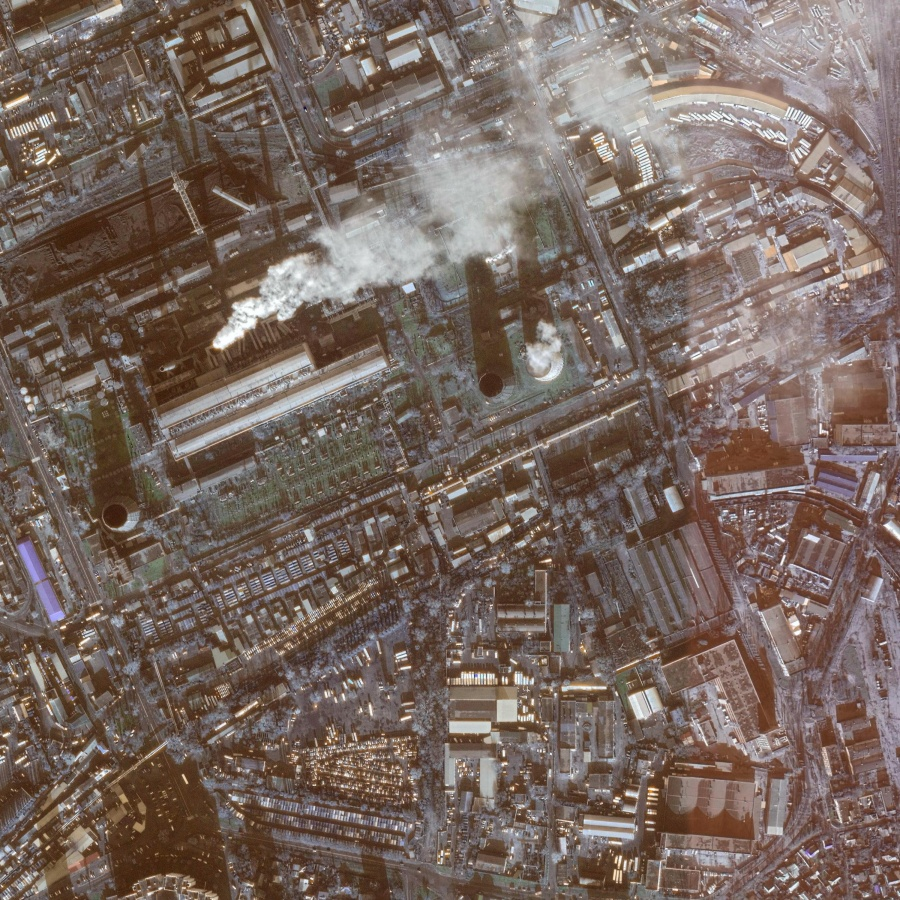PowerPlant: (73, 116, 698, 542)
